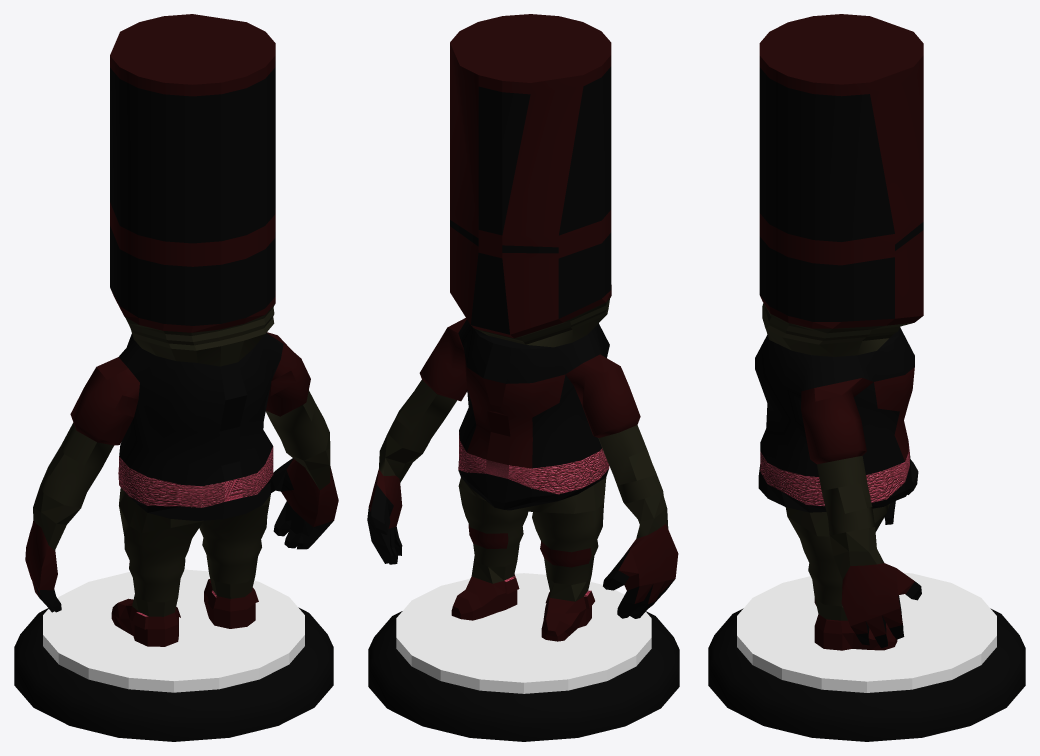
The model's file is PlayerPiece.FBX.
3 views of the same model, side by side, from view 1: azimuth 30°, elevation 25°; view 2: azimuth 150°, elevation 25°; view 3: azimuth 270°, elevation 25° (orthographic). The views are drawn at different scales.
Visible parts, largest first — view 1: Player, Cylinder001; view 2: Player, Cylinder001; view 3: Player, Cylinder001.
Part boxes in pixels (<box>): Player: <box>25,14,338,646</box>; Cylinder001: <box>14,569,333,741</box>; Player: <box>367,14,678,641</box>; Cylinder001: <box>368,573,679,741</box>; Player: <box>755,14,923,650</box>; Cylinder001: <box>708,572,1025,741</box>.
Size of the model in its own units: 0.9144 by 1.86 by 0.8511.
Materials: 8 (1 with a texture image).
